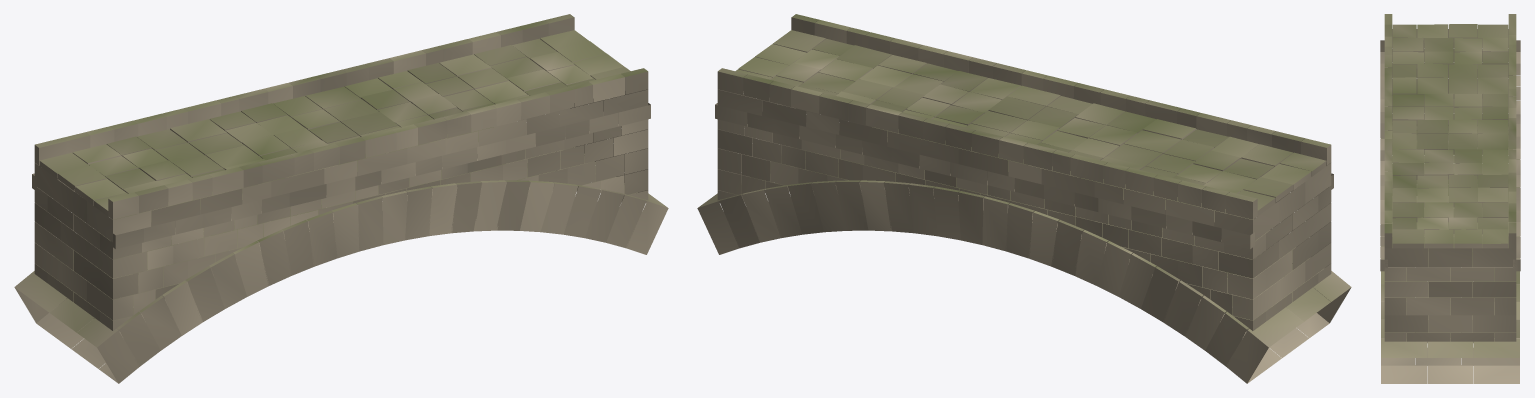
File: bridge_crown_mid.glb
3 renders of one model, left to right at view 1: azimuth 30°, elevation 25°; view 2: azimuth 150°, elevation 25°; view 3: azimuth 270°, elevation 25°, orthographic. The views are drawn at different scales.
Parts seen in each view (by area): view 1: bridge_crown_mid; view 2: bridge_crown_mid; view 3: bridge_crown_mid.
Part boxes in pixels (<box>): bridge_crown_mid: <box>14,14,668,383</box>; bridge_crown_mid: <box>697,14,1351,383</box>; bridge_crown_mid: <box>1380,14,1520,383</box>.
Size of the model in its own units: 62.96 by 19.08 by 15.97.
